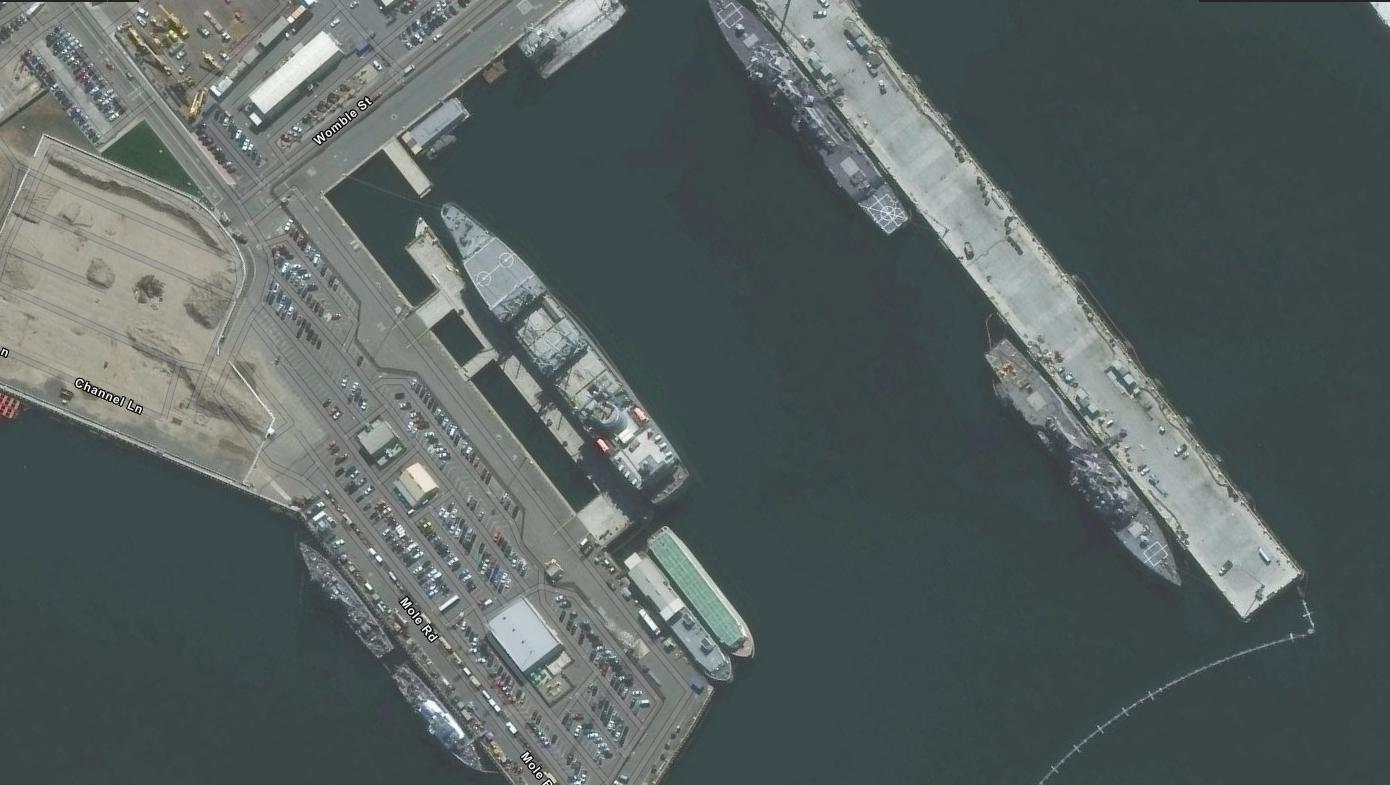fregate: (985, 326, 1193, 600)
supply: (433, 189, 695, 513)
